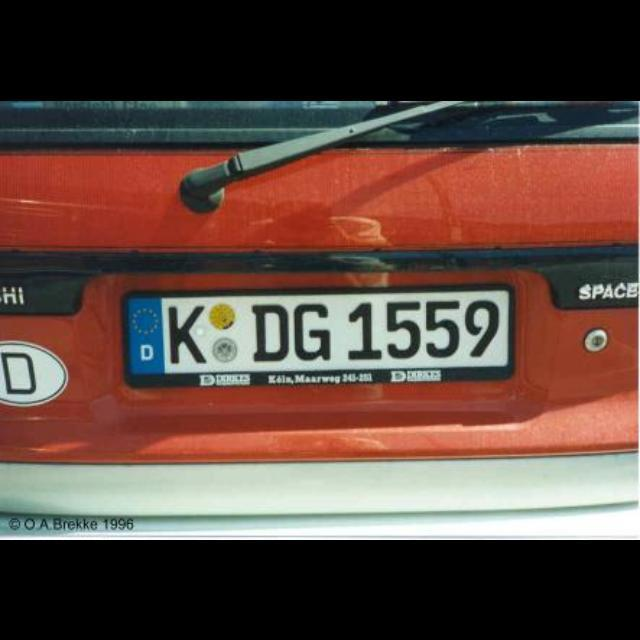license-plates: (124, 288, 514, 386)
